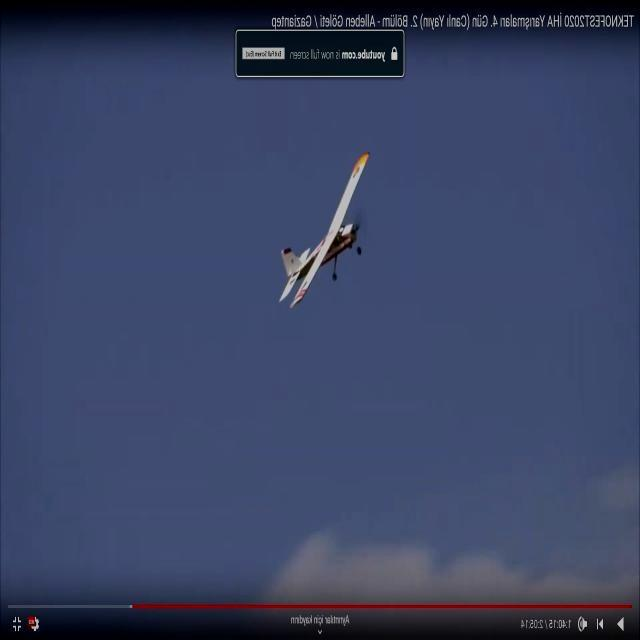iha: (248, 143, 392, 322)
